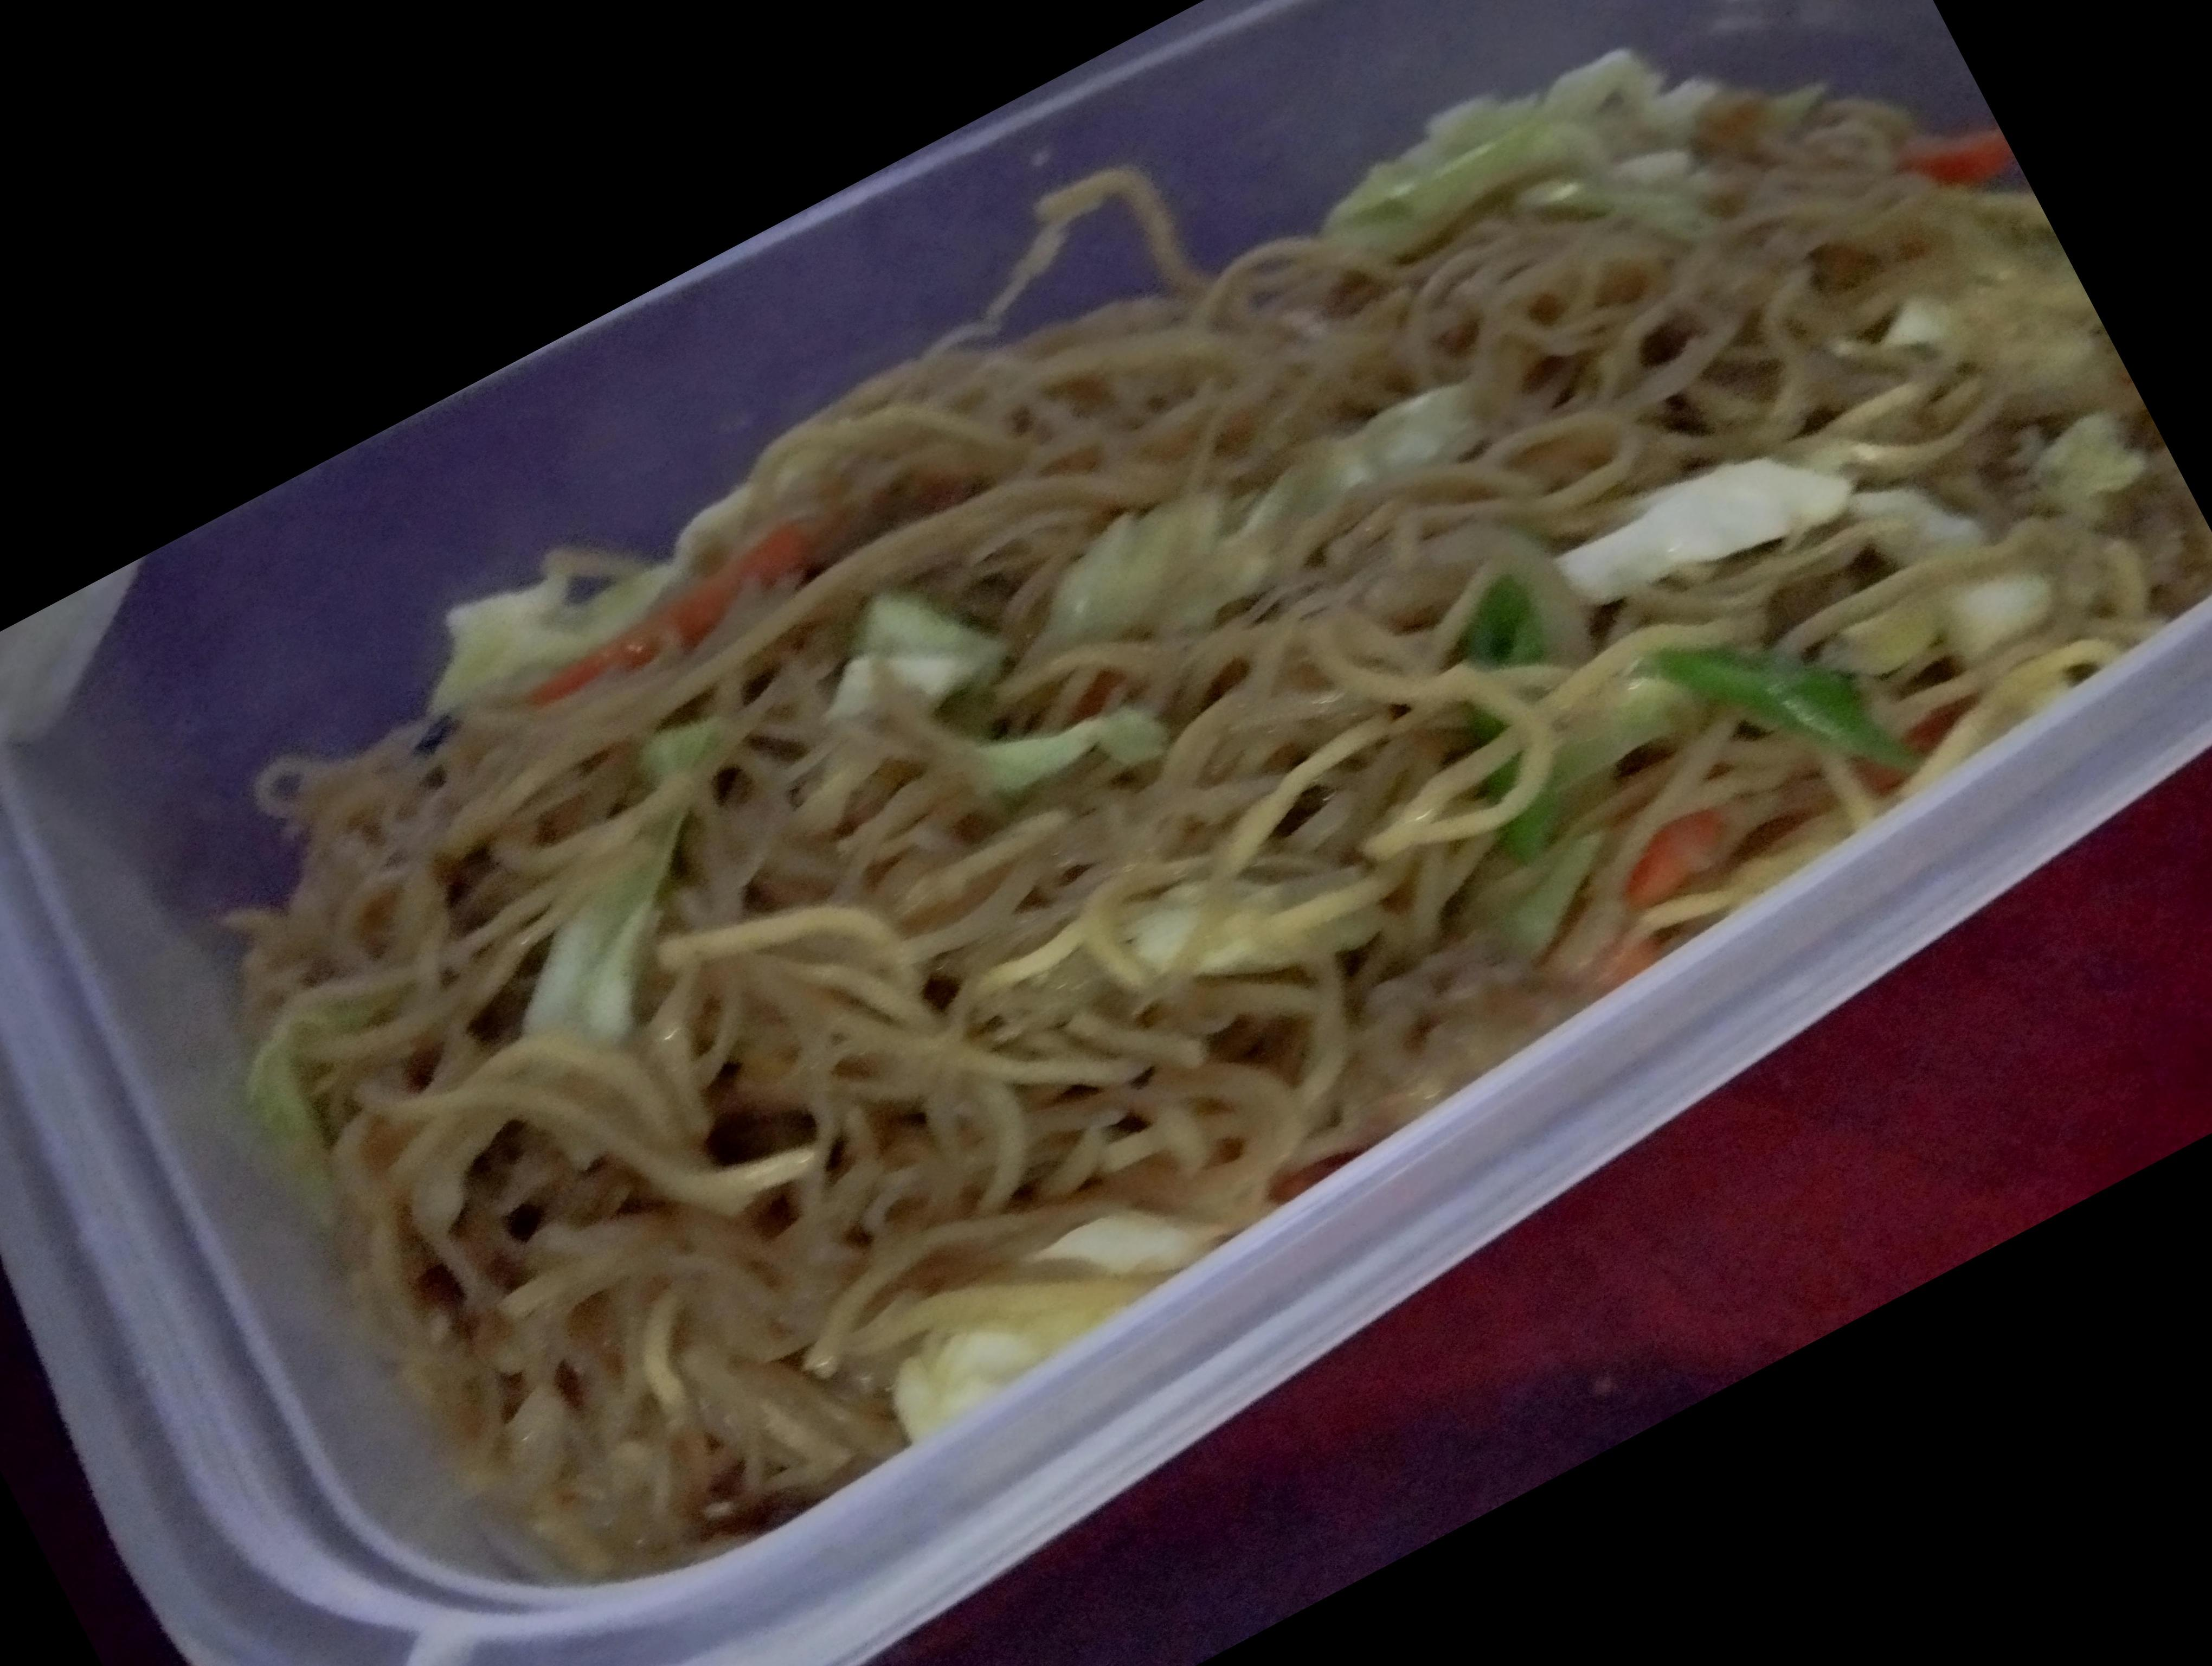pancit bihon: (271, 95, 2212, 1582)
